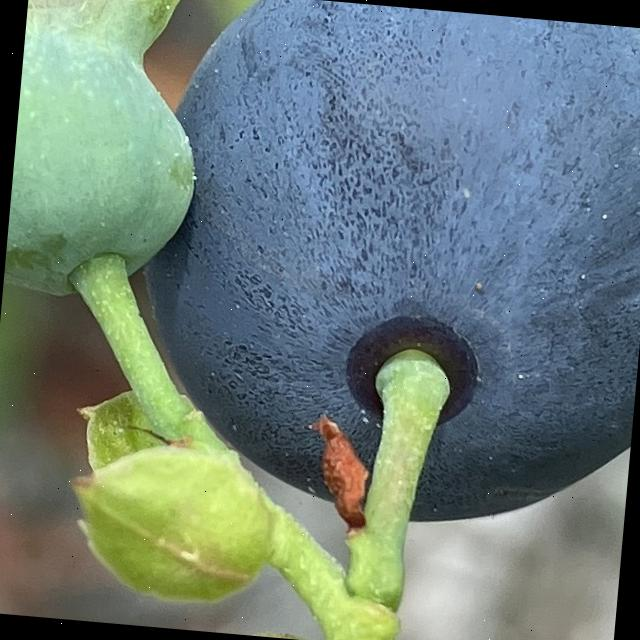Blueberries: (117, 0, 640, 542), (1, 0, 211, 306)
